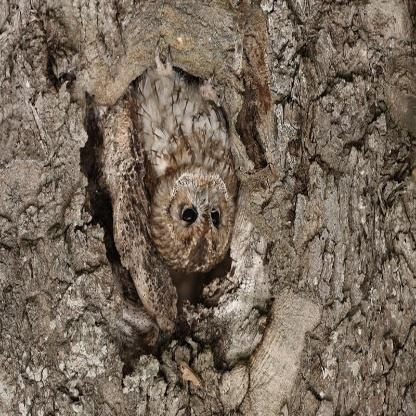Owl: (132, 55, 238, 270)
